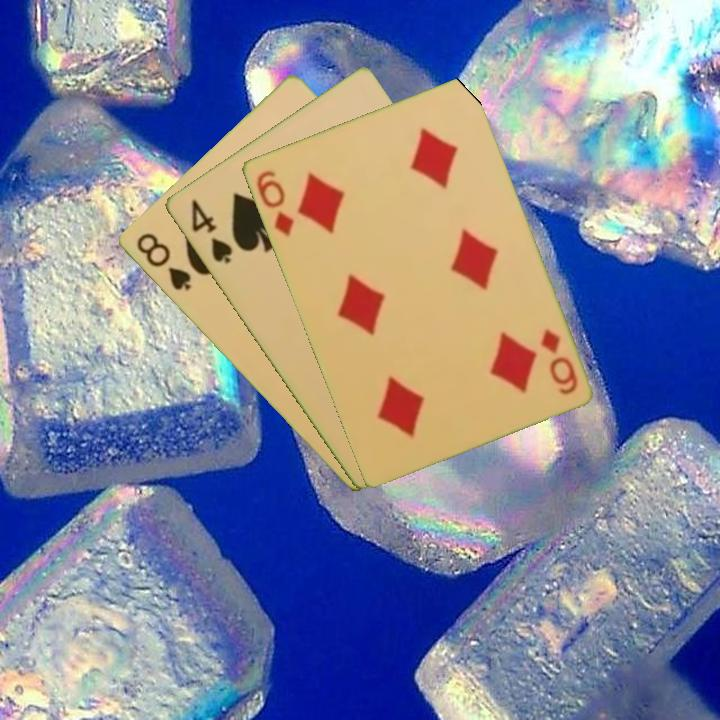4s: (187, 195, 235, 267)
6d: (252, 166, 297, 239), (536, 325, 580, 398)
8s: (132, 229, 194, 294)
